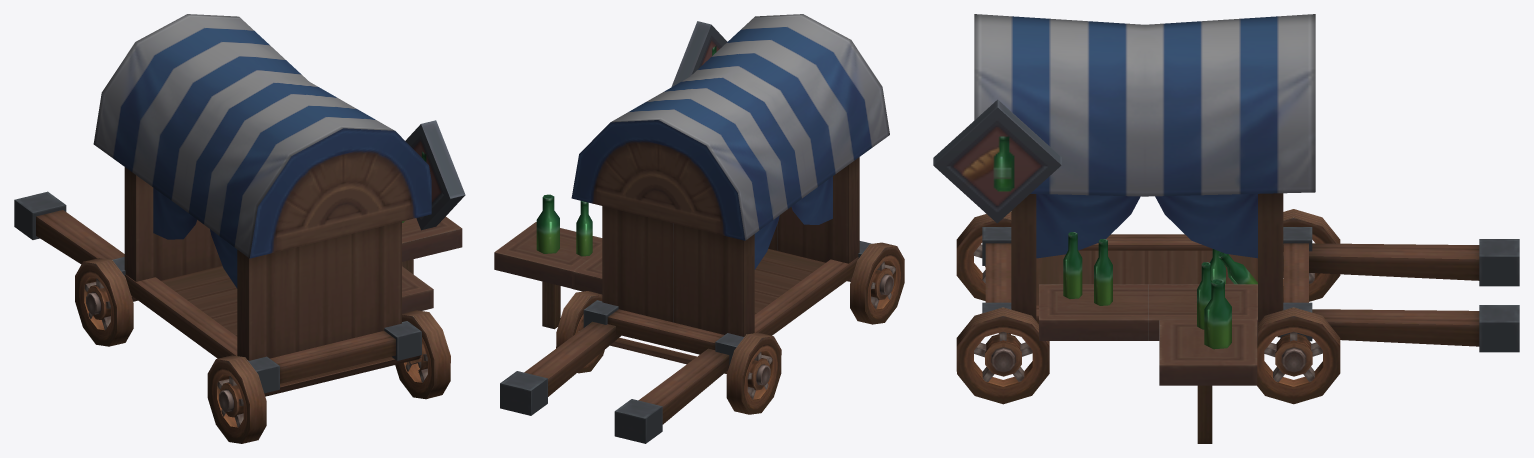
The model's file is scene_luoliante_jc01.FBX.
3 renders of one model, left to right at view 1: azimuth 30°, elevation 25°; view 2: azimuth 150°, elevation 25°; view 3: azimuth 270°, elevation 25°, orthographic. The views are drawn at different scales.
Parts seen in each view (by area): view 1: scene_luoliante_jc01; view 2: scene_luoliante_jc01; view 3: scene_luoliante_jc01.
Boxes of the visible parts, x1,y1,x2,y2 form: scene_luoliante_jc01: (14, 14, 465, 443); scene_luoliante_jc01: (494, 14, 904, 443); scene_luoliante_jc01: (933, 14, 1519, 443).
Bounding box in the file's own units: 205 × 190 × 308.
